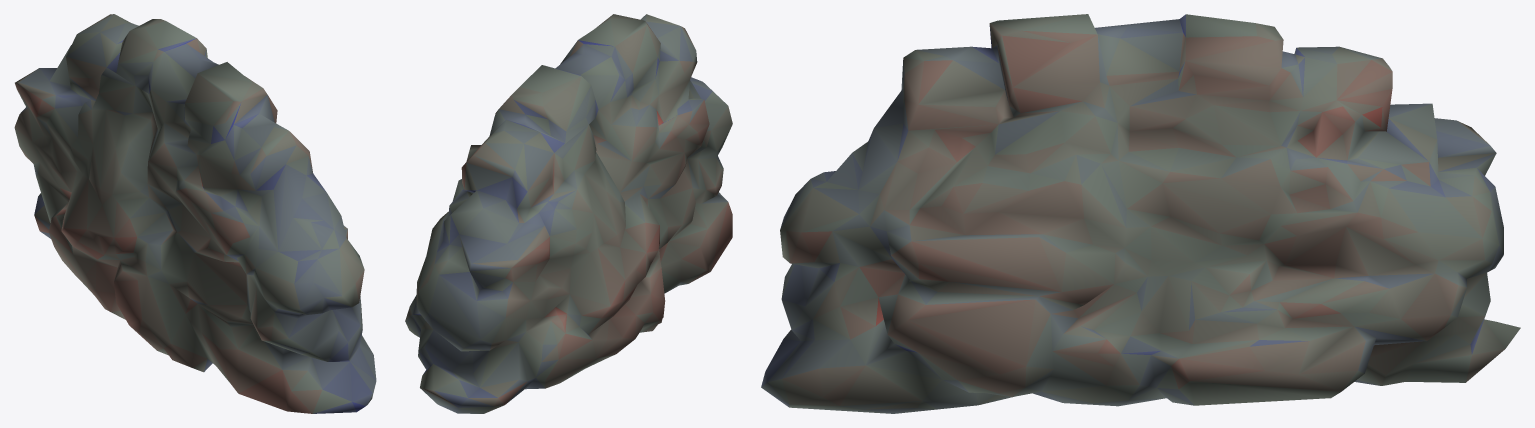
File: stone_wall_02.fbx
The picture shows the model from 3 angles, left to right: view 1: azimuth 30°, elevation 25°; view 2: azimuth 150°, elevation 25°; view 3: azimuth 270°, elevation 25°; orthographic projection. The views are drawn at different scales.
Parts seen in each view (by area): view 1: Rock_Wall_Half; view 2: Rock_Wall_Half; view 3: Rock_Wall_Half.
Part boxes in pixels (left/top/right/bottom): Rock_Wall_Half: left=14, top=14, right=376, bottom=413; Rock_Wall_Half: left=405, top=14, right=732, bottom=413; Rock_Wall_Half: left=761, top=14, right=1520, bottom=413.
Bounding box in the file's own units: 69.45 × 112 × 205.
